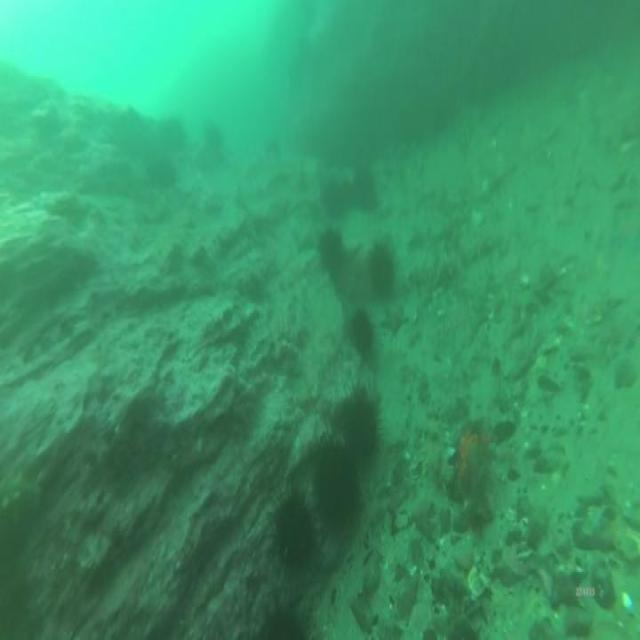echinus: (306, 430, 364, 531), (264, 481, 322, 582), (333, 382, 383, 470), (252, 591, 316, 640), (366, 236, 398, 304), (314, 223, 348, 283), (348, 305, 377, 365), (346, 164, 377, 217), (146, 150, 180, 198), (320, 172, 349, 223), (201, 117, 226, 158)
holothurian: (415, 416, 452, 480)
starfish: (377, 296, 412, 340)
